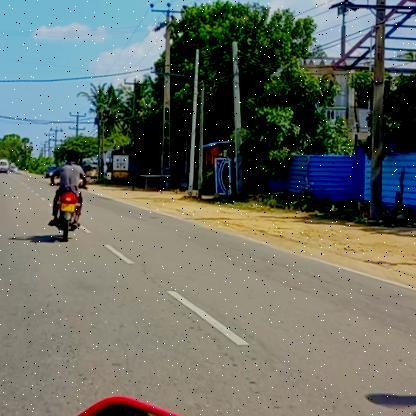motorcycle: (46, 188, 90, 254)
